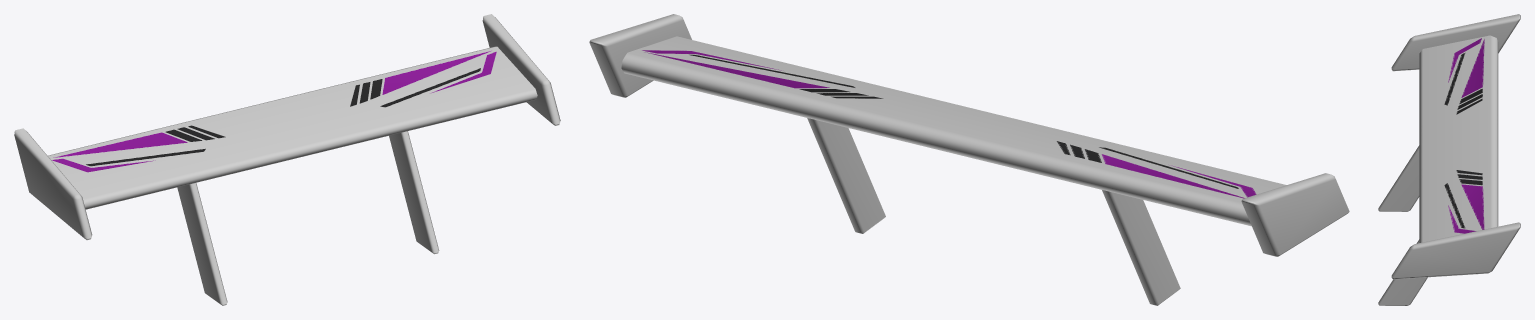
The model's file is Car_07_Spoiler.fbx.
The picture shows the model from 3 angles, left to right: view 1: azimuth 30°, elevation 25°; view 2: azimuth 150°, elevation 25°; view 3: azimuth 270°, elevation 25°; orthographic projection. The views are drawn at different scales.
Parts seen in each view (by area): view 1: Car_07_Spoiler; view 2: Car_07_Spoiler; view 3: Car_07_Spoiler.
Part boxes in pixels (x1=…): Car_07_Spoiler: x1=14, y1=14, x2=560, y2=305; Car_07_Spoiler: x1=589, y1=14, x2=1349, y2=305; Car_07_Spoiler: x1=1378, y1=14, x2=1520, y2=305.
Size of the model in its own units: 214 by 60.18 by 64.48.
